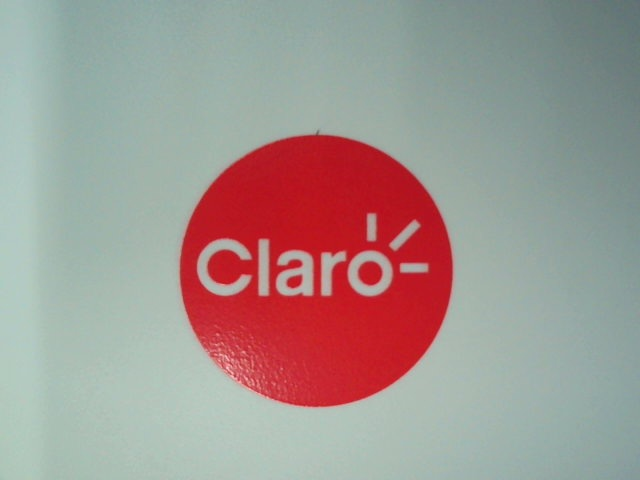BC_ClaorRed: (173, 131, 458, 407)
